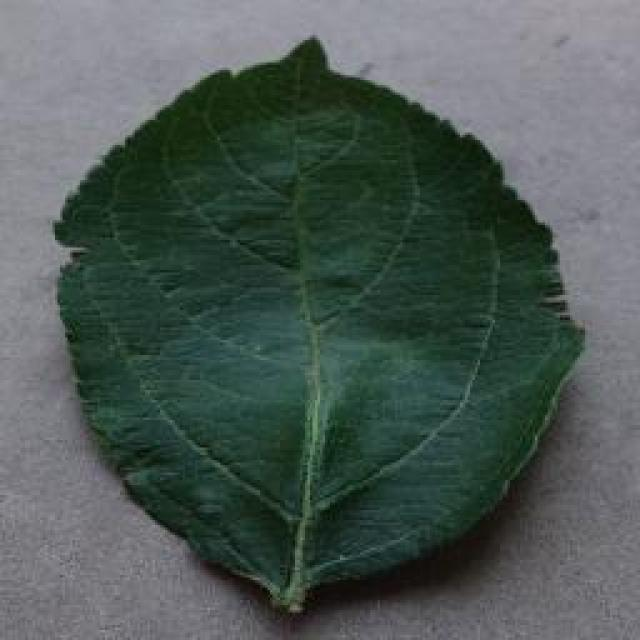apple healthy: (50, 33, 588, 615)
